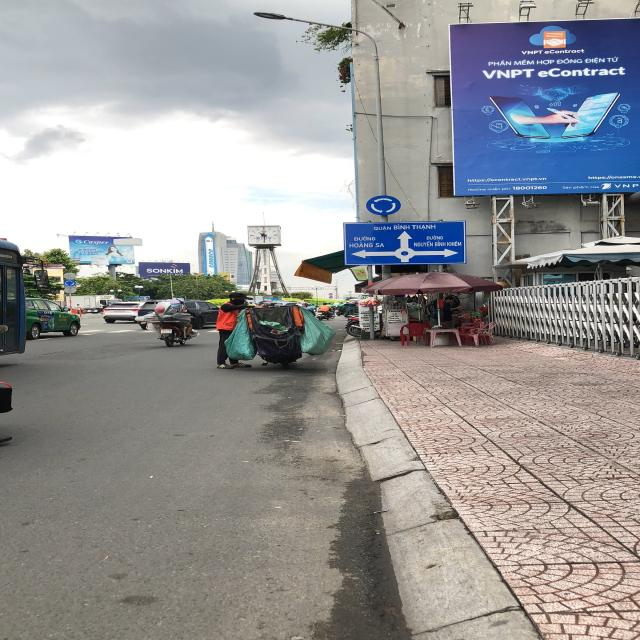Bien bao noi giao nhau chay theo vong xuyen: (362, 194, 407, 217), (63, 279, 78, 287)
